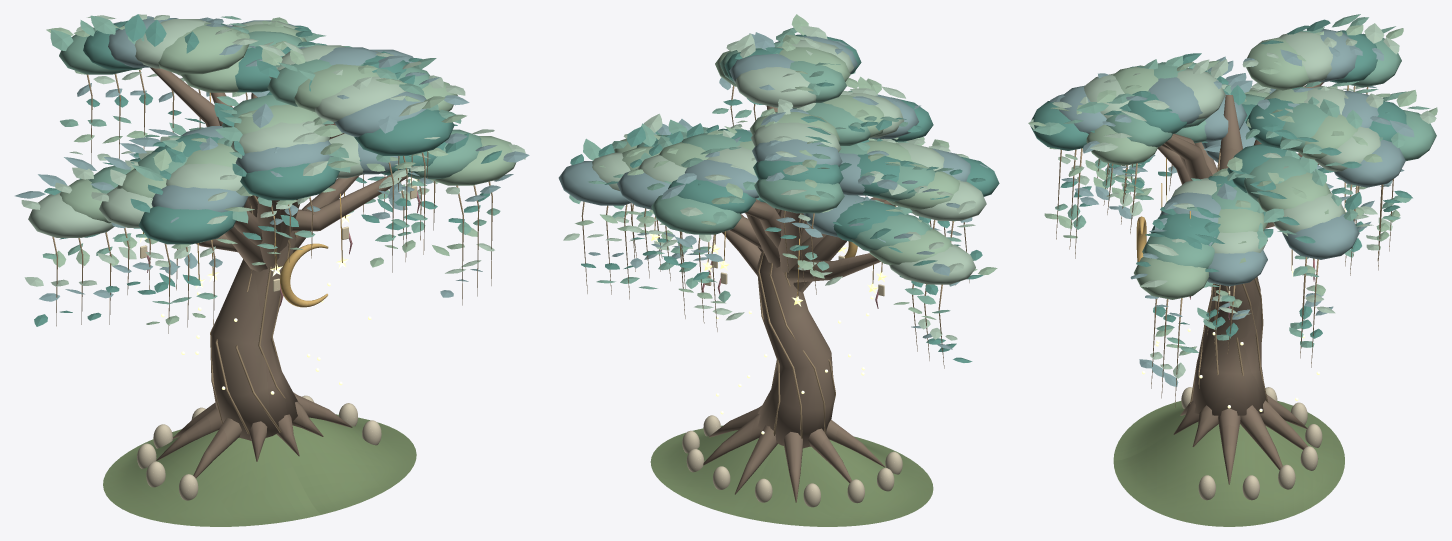
File: wishing-tree.glb
3 renders of one model, left to right at view 1: azimuth 30°, elevation 25°; view 2: azimuth 150°, elevation 25°; view 3: azimuth 270°, elevation 25°, orthographic. The views are drawn at different scales.
Visible parts, largest first — view 1: Forest hamlet; view 2: Forest hamlet; view 3: Forest hamlet.
Part boxes in pixels (bbox=[...]): Forest hamlet: bbox=[15, 14, 529, 526]; Forest hamlet: bbox=[558, 14, 999, 526]; Forest hamlet: bbox=[1028, 14, 1437, 526].
Size of the model in its own units: 7.59 by 7.18 by 6.54.
Materials: 13 (13 with a texture image).
